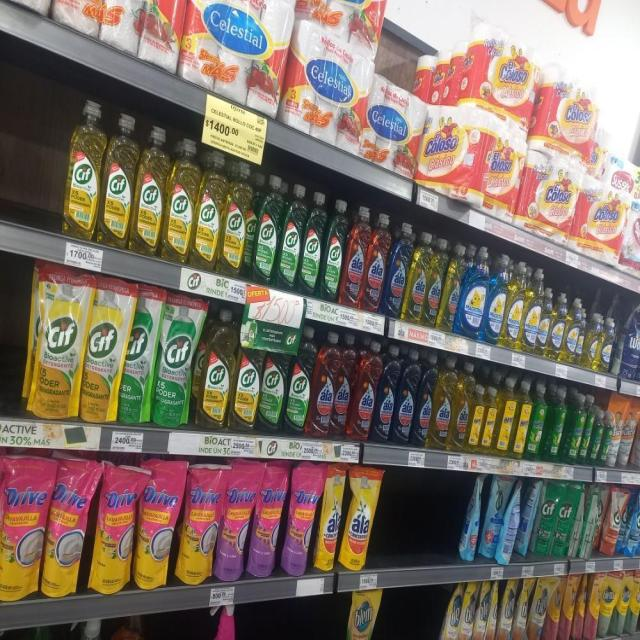ala_conc_amarillo: (432, 357, 452, 449), (408, 231, 427, 325), (426, 235, 444, 328), (452, 361, 469, 453)
ala_conc_azul: (375, 344, 396, 444), (396, 348, 416, 447), (387, 220, 407, 318), (416, 352, 433, 448)
ala_conc_rojo: (312, 330, 334, 437), (352, 340, 375, 442), (344, 206, 366, 310), (365, 212, 387, 314), (333, 335, 352, 439)
ala_sachet_amarillo: (343, 466, 376, 570), (318, 465, 342, 572), (348, 587, 380, 640)
cif_conc_bot_amarilla: (62, 97, 100, 240), (101, 112, 133, 248), (197, 308, 232, 430), (134, 124, 164, 257), (165, 136, 195, 265), (195, 148, 222, 272), (222, 160, 250, 278), (233, 322, 260, 432)
cif_conc_botella_verde: (253, 174, 280, 287), (286, 327, 311, 436), (260, 328, 285, 434), (280, 182, 302, 293), (302, 190, 324, 298), (324, 198, 344, 304)
cif_conc_sachet_amarillo: (32, 264, 82, 419), (83, 275, 121, 423)
cif_conc_sachet_verde: (155, 291, 194, 428), (121, 284, 154, 424)
drive: (0, 452, 44, 600), (46, 456, 88, 598), (92, 460, 134, 594), (137, 459, 178, 589), (180, 462, 218, 584)
magistral_con_amarillo: (506, 259, 522, 350), (523, 266, 539, 354), (565, 296, 583, 365), (550, 292, 565, 362), (600, 315, 616, 374), (586, 312, 600, 371), (538, 290, 550, 358)
magistral_con_azul: (461, 245, 486, 340), (486, 254, 505, 346)
